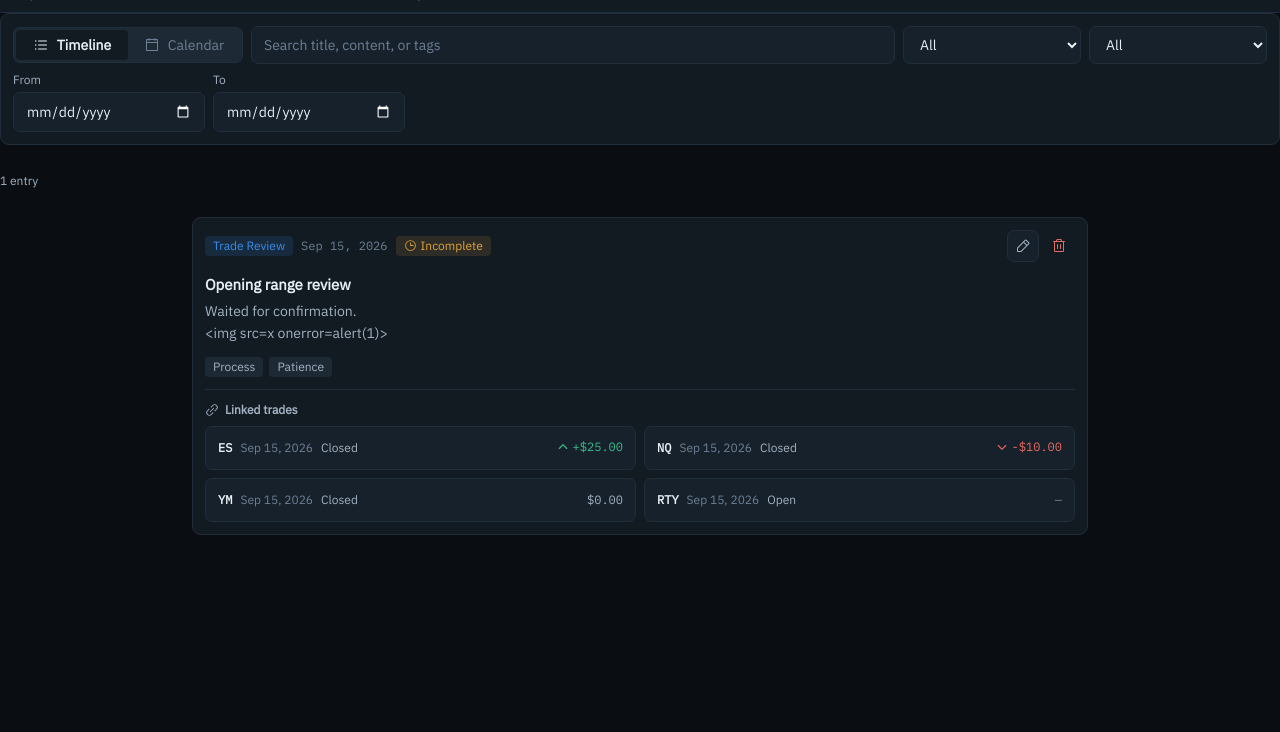
Test case: Journal calendar › distinguishes empty month and empty selected day
What coordinates should you click on to do the following:
click the button "Calendar"
I would click on:
 (184, 45)
Its box is [128,30,240,60].
(page scrolled)
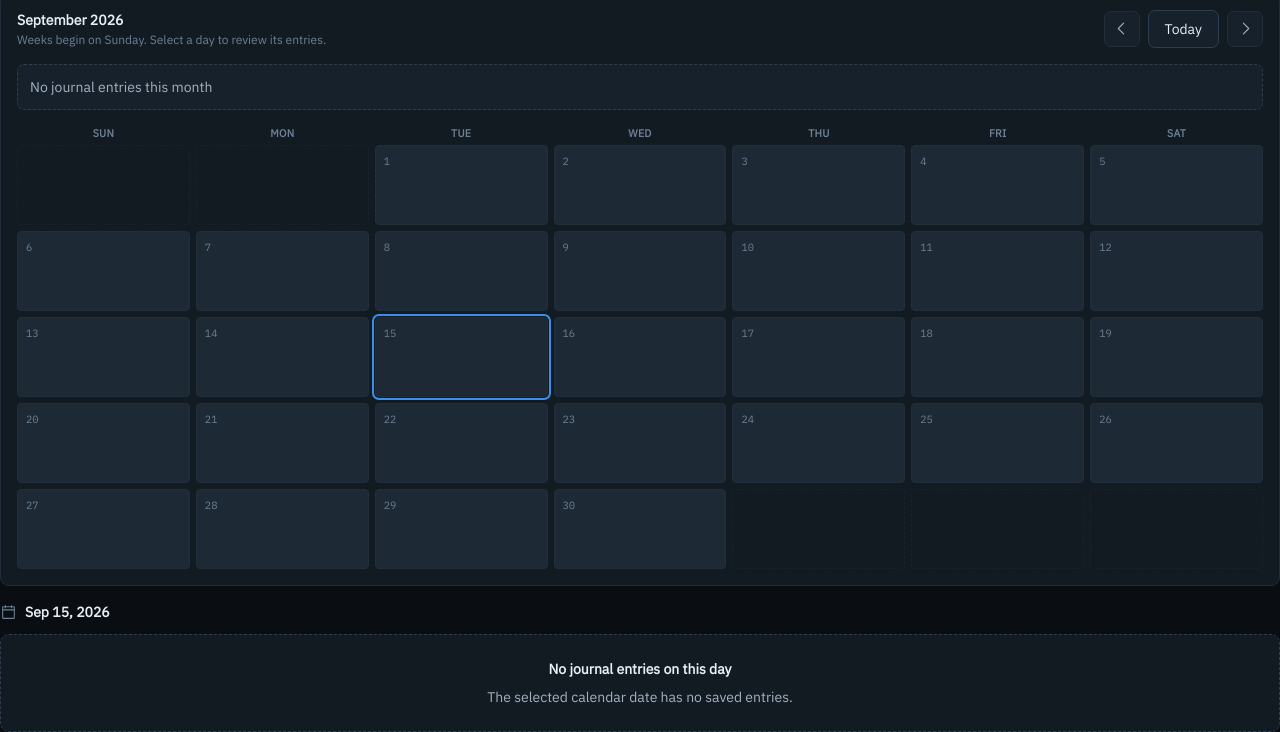
Check: the text "No journal entries this month" is shown, box [17,64,1263,110]
Check: the heading "No journal entries on this day" is shown, box [548,660,732,678]
